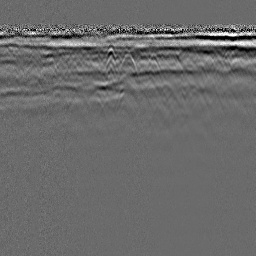cavity: (121, 52, 138, 76)
